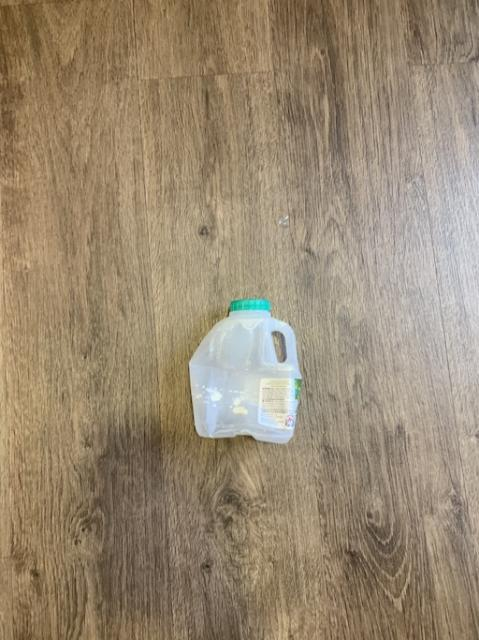plastic: (189, 298, 300, 441)
